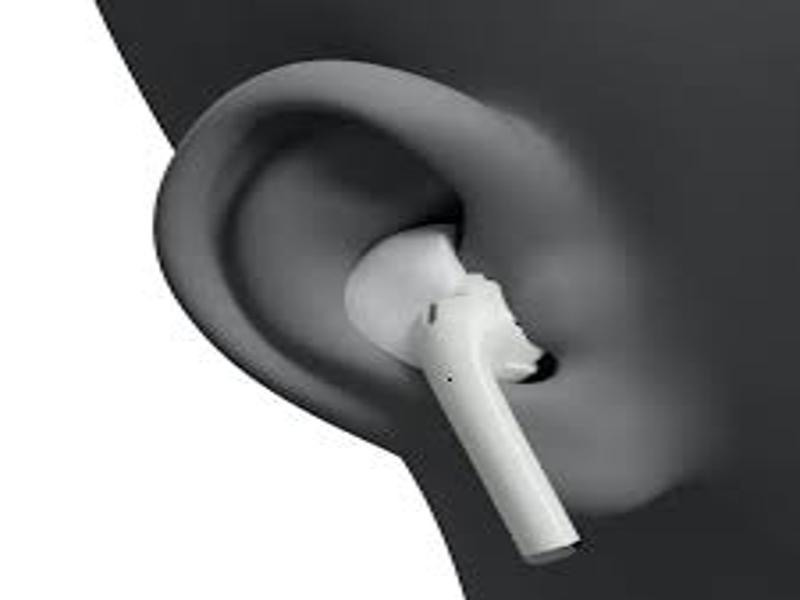headphone: (345, 218, 587, 563)
